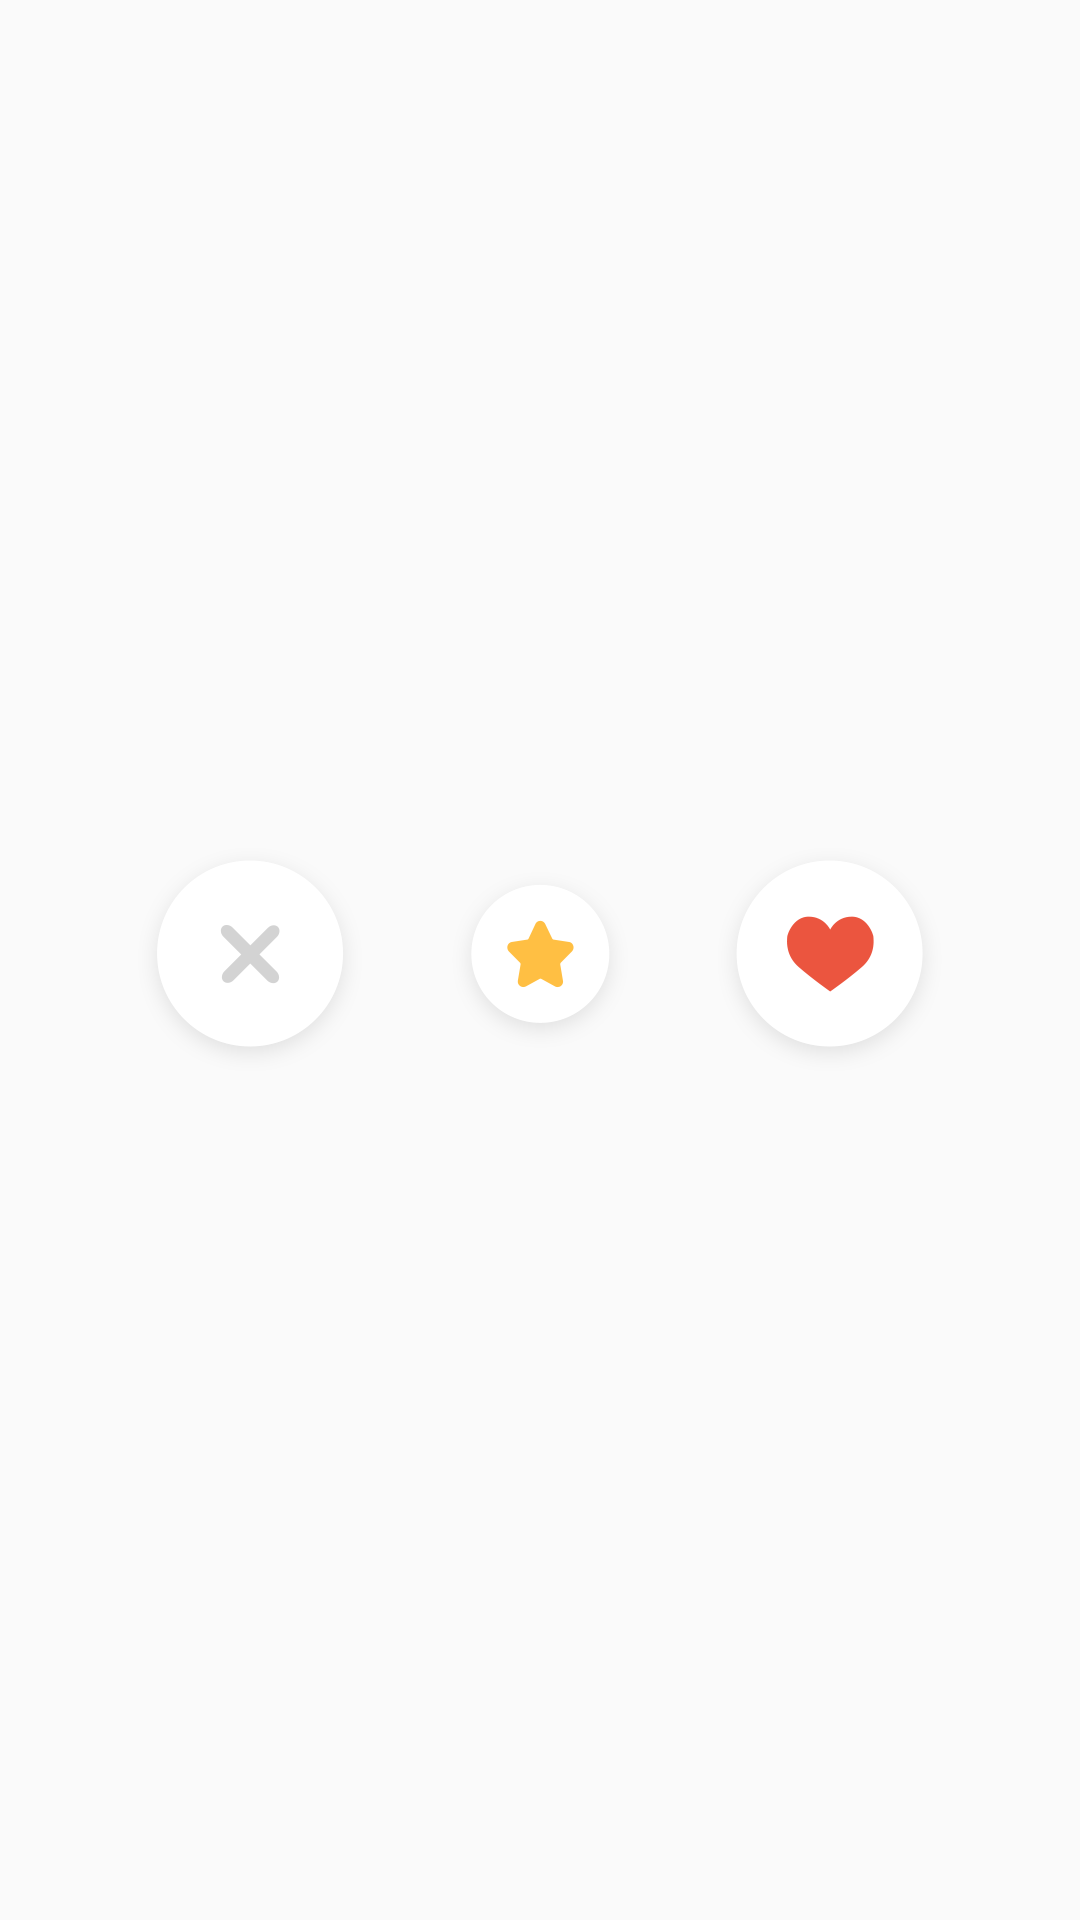

Where icons sit on this 1080 x 1920 app screen, as (x1, y1, x2, y2):
todayfate dislike: (221, 925, 279, 983)
todayfate follow: (507, 921, 574, 987)
todayfate like: (787, 916, 874, 992)
